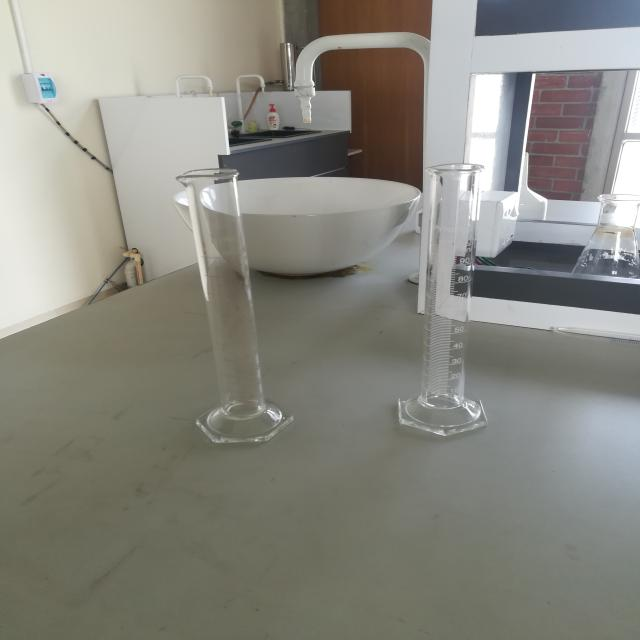Measuring_Cylinder: (153, 147, 315, 471), (379, 137, 521, 465)
